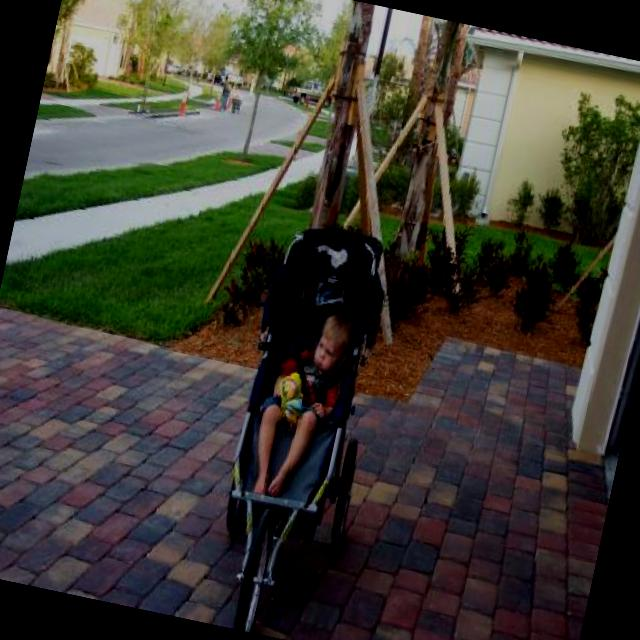Person: (240, 301, 358, 511), (215, 72, 234, 112)
